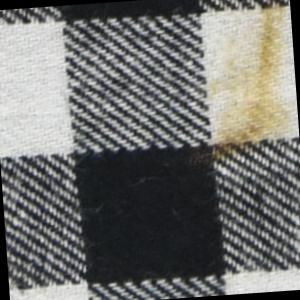Oil Stain: (175, 1, 300, 172)
